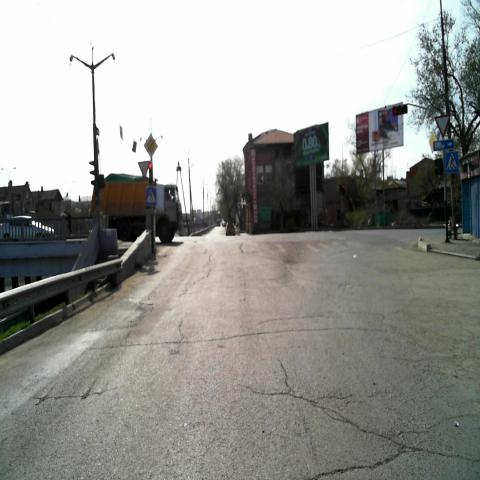6_15_2: (434, 139, 454, 150)
